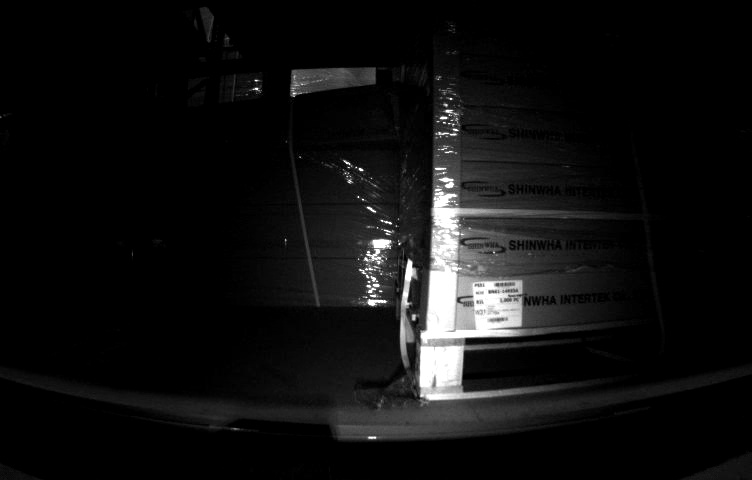True Barcode: (473, 278, 522, 325)
